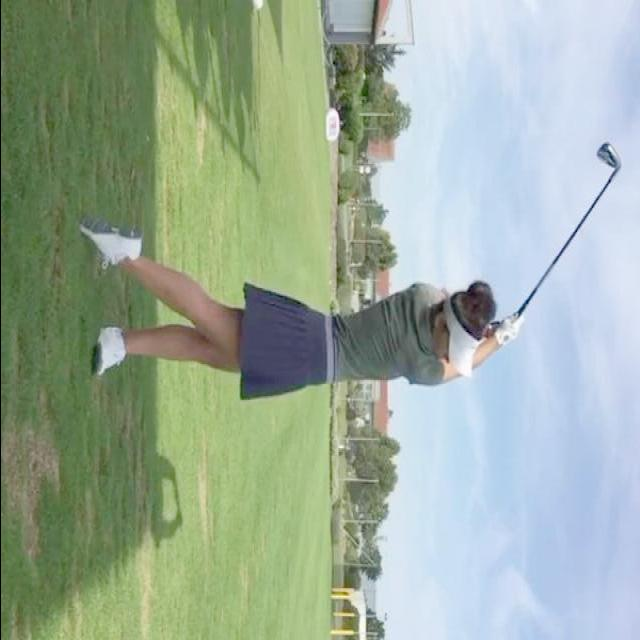golf club-handle: (508, 144, 625, 325)
golf club-head: (591, 144, 622, 171)
